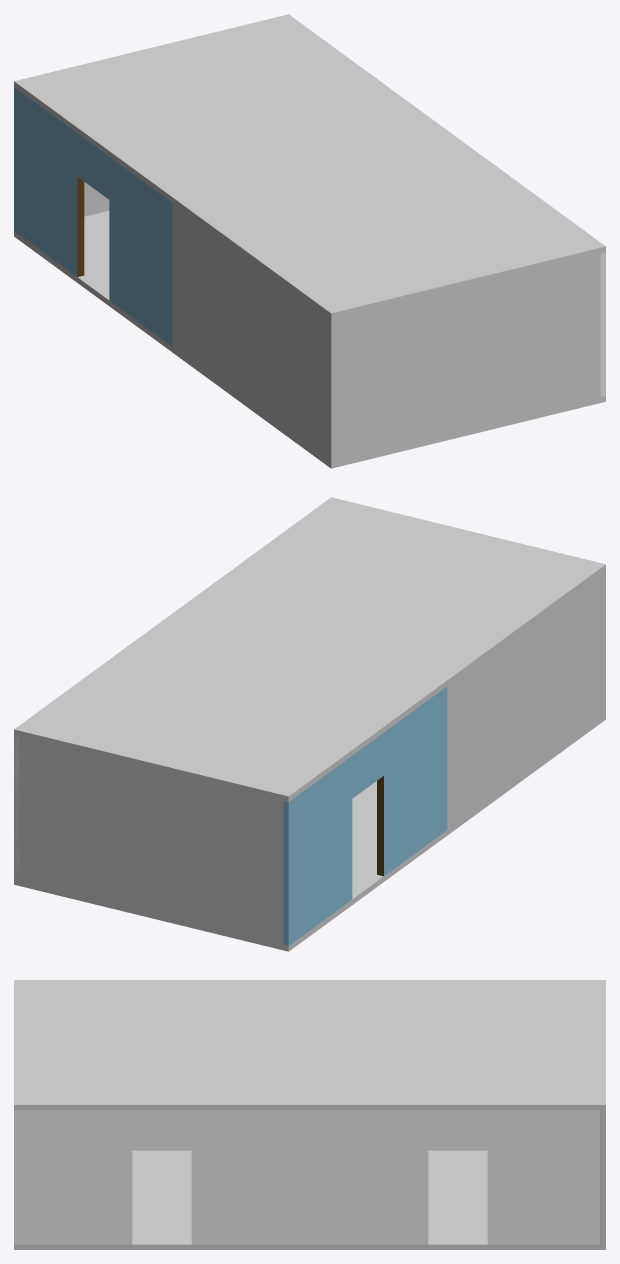
File: Room_2.glb
3 views of the same model, one above another, from view 1: azimuth 30°, elevation 25°; view 2: azimuth 150°, elevation 25°; view 3: azimuth 270°, elevation 25° (orthographic). The views are drawn at different scales.
Visible parts, largest first — view 1: Room_2_Roof.002, Room_2_Roof.001, Room_2_Wall_4, Room_2_Wall_3, Room_2_Wall_5, Room_2_Floor, Room_2_Wall_2, Room_2_Wall_1; view 2: Room_2_Roof.001, Room_2_Roof.002, Room_2_Wall_1, Room_2_Wall_3, Room_2_Wall_5, Room_2_Floor, Room_2_Wall_2; view 3: Room_2_Wall_2, Room_2_Roof.001, Room_2_Roof.002, Room_2_Floor, Room_2_Wall_1.
Part boxes in pixels (x1,y1,x2,y2): Room_2_Roof.002: (172,130,605,319); Room_2_Roof.001: (14,14,446,202); Room_2_Wall_4: (328,253,600,462); Room_2_Wall_3: (172,203,336,462); Room_2_Wall_5: (14,87,172,346); Room_2_Floor: (14,210,605,468); Room_2_Wall_2: (600,252,605,396); Room_2_Wall_1: (84,182,109,216); Room_2_Roof.001: (14,613,447,802); Room_2_Roof.002: (173,497,605,685); Room_2_Wall_1: (14,735,283,944); Room_2_Wall_3: (447,572,602,829); Room_2_Wall_5: (283,686,447,945); Room_2_Floor: (14,714,605,951); Room_2_Wall_2: (14,736,19,879); Room_2_Wall_2: (14,1110,599,1244); Room_2_Roof.001: (310,980,605,1110); Room_2_Roof.002: (14,980,309,1110); Room_2_Floor: (14,1150,605,1249); Room_2_Wall_1: (600,1110,605,1244).
Size of the model in its own units: 5 by 2.7 by 10.
3 materials, 1 textured.
